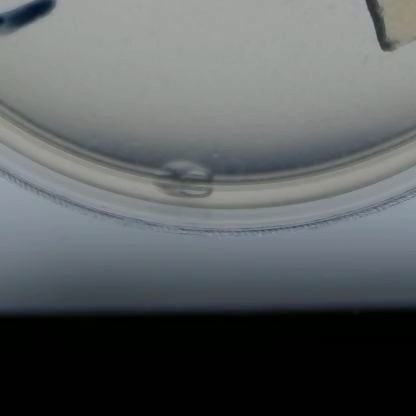worm: (354, 51, 372, 70)
